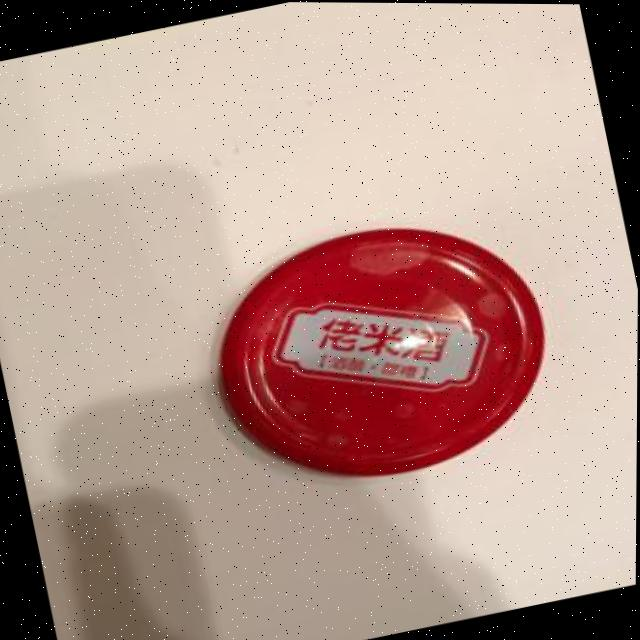metal: (181, 186, 580, 515)
